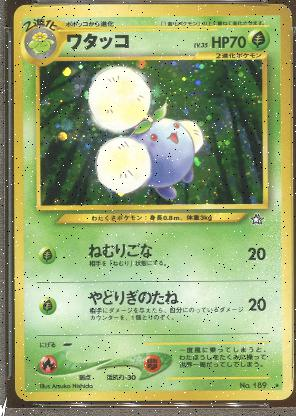Card: (13, 4, 293, 402)
